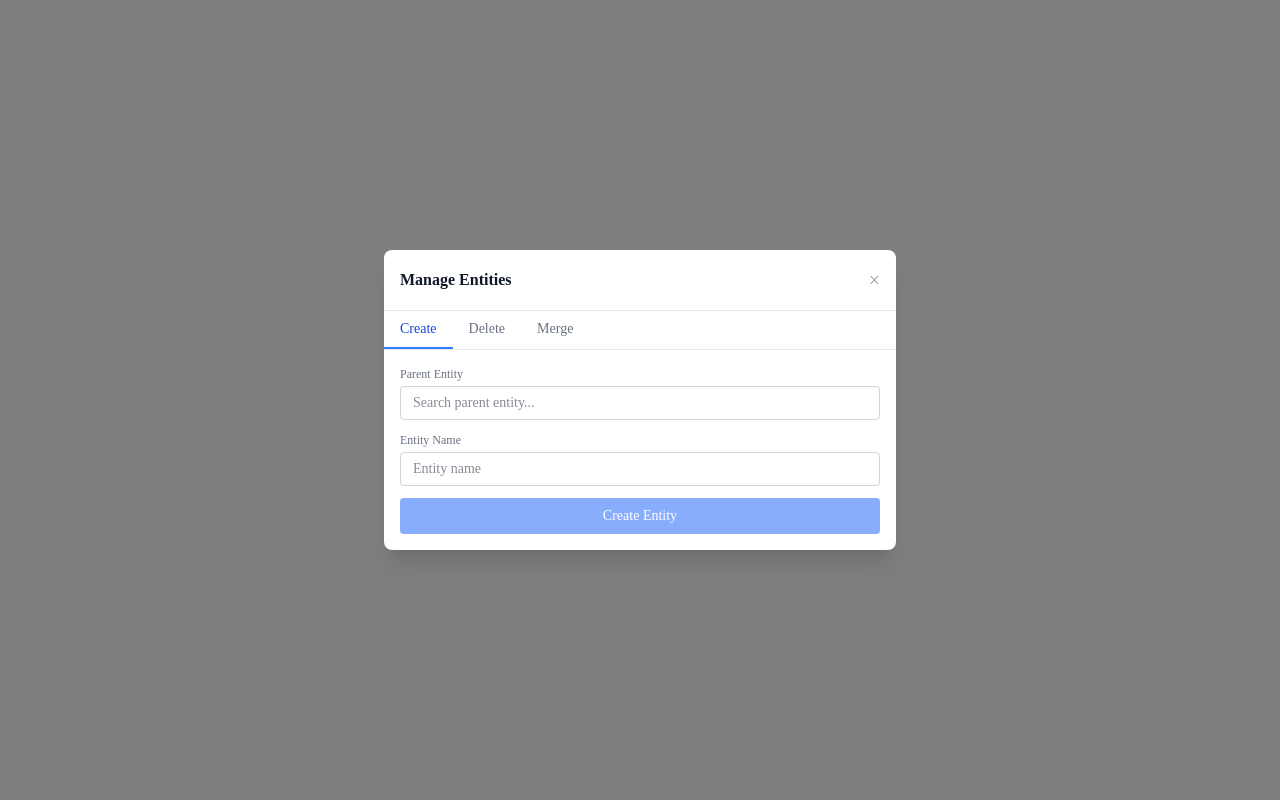
Test: ManageEntitiesModal › switches to Delete tab
The width and height of the screenshot is (1280, 800).
Click the button "Delete".
click(487, 330)  # box 452,311 -> 521,349
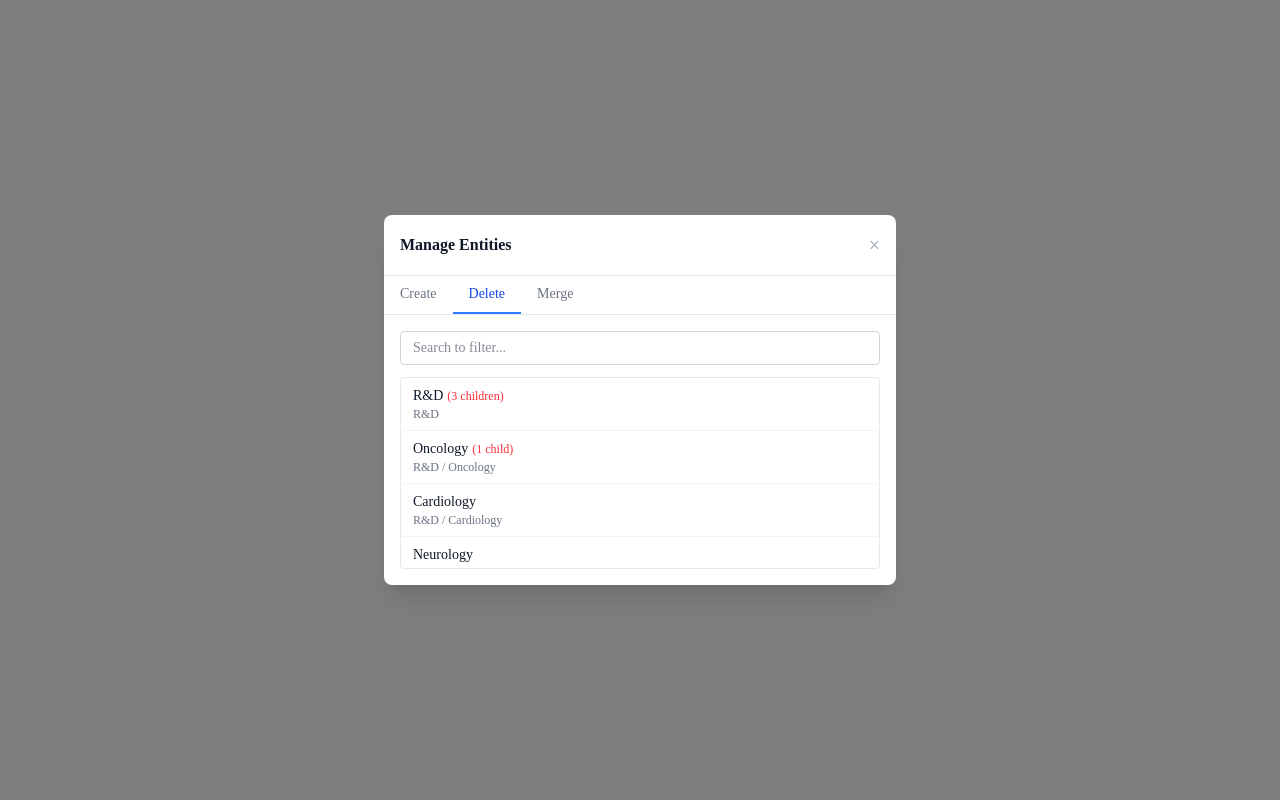
Expected: the field with placeholder "Search to filter..." is shown, 400,331 -> 880,365
